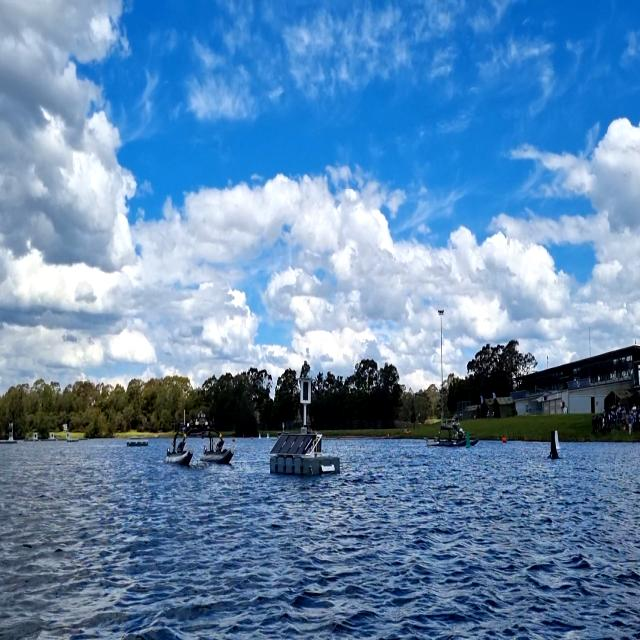led: (302, 380, 309, 401)
